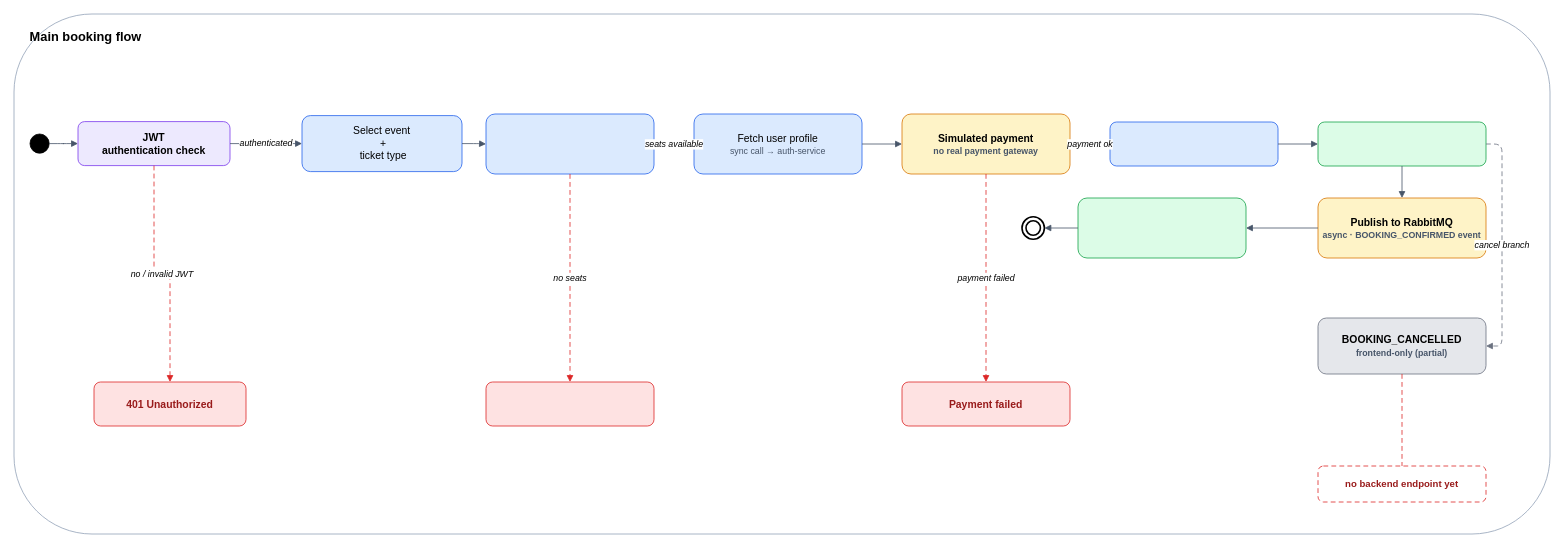
The diagram is 1564 pixels wide and 548 high, and some of its shapes have lost their labels. The centre of each missing label's shape, as x and y in pixels:
"BOOKING_CONFIRMED" goes at point (1401, 143).
"Check availability sync call → event-service" goes at point (569, 143).
"Email notification sent via notification-service → Brevo" goes at point (1161, 227).
"Persist booking to MySQL" goes at point (1193, 143).
"Sold out" goes at point (569, 403).
